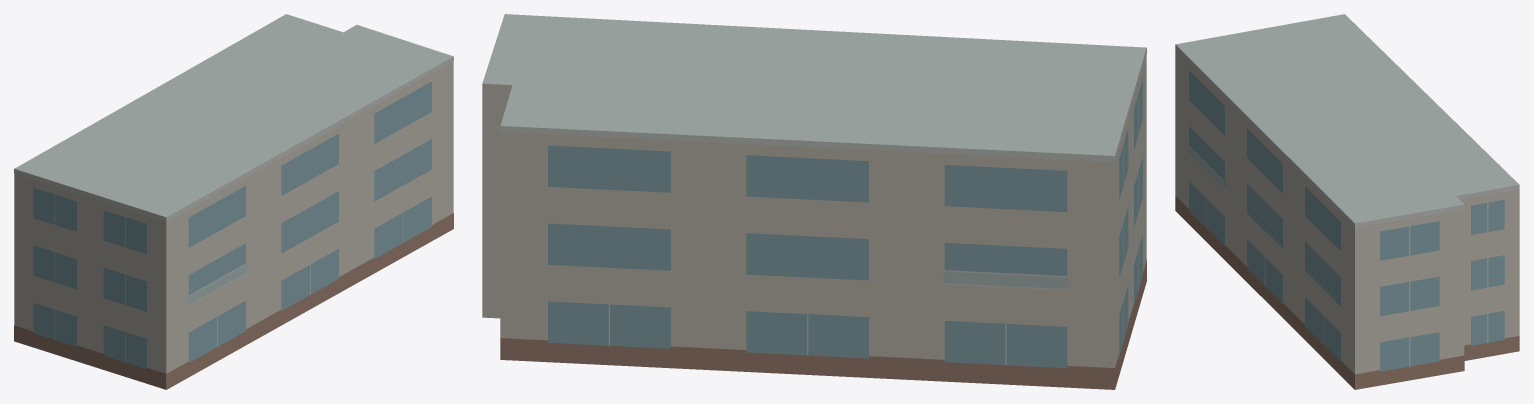
File: survey-upis-33028021.glb
The picture shows the model from 3 angles, left to right: view 1: azimuth 30°, elevation 25°; view 2: azimuth 150°, elevation 25°; view 3: azimuth 270°, elevation 25°; orthographic projection. The views are drawn at different scales.
Parts seen in each view (by area): view 1: survey-upis-33028021.tmp; view 2: survey-upis-33028021.tmp; view 3: survey-upis-33028021.tmp.
Part boxes in pixels (box(x1,y1,x2,y2)): survey-upis-33028021.tmp: box(14, 14, 453, 389); survey-upis-33028021.tmp: box(482, 14, 1146, 389); survey-upis-33028021.tmp: box(1175, 14, 1519, 389).
Size of the model in its own units: 24.7 by 9.15 by 17.16.
